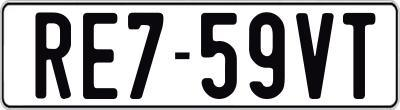5: (199, 11, 238, 98)
7: (127, 12, 165, 103)
9: (248, 12, 285, 99)
E: (80, 12, 117, 99)
R: (35, 11, 74, 102)
T: (343, 11, 379, 97)
V: (296, 12, 338, 101)
